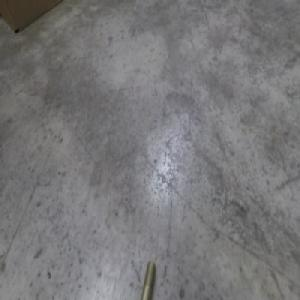Bolt: (138, 256, 156, 299)
